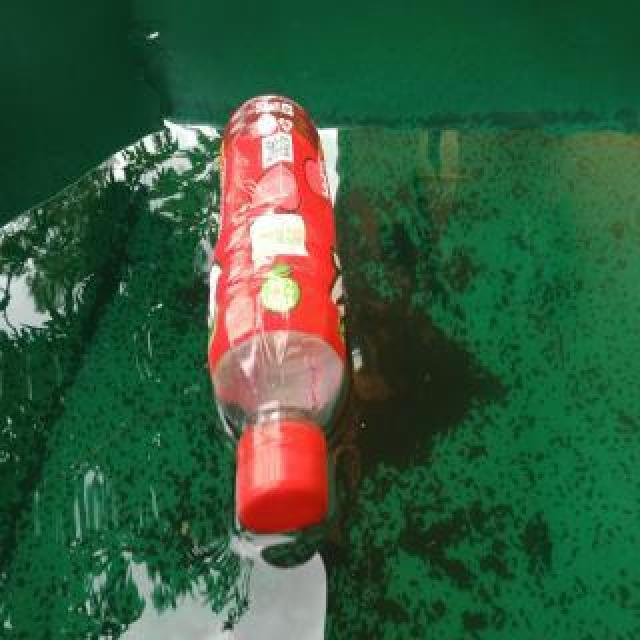bottle: (204, 88, 350, 536)
